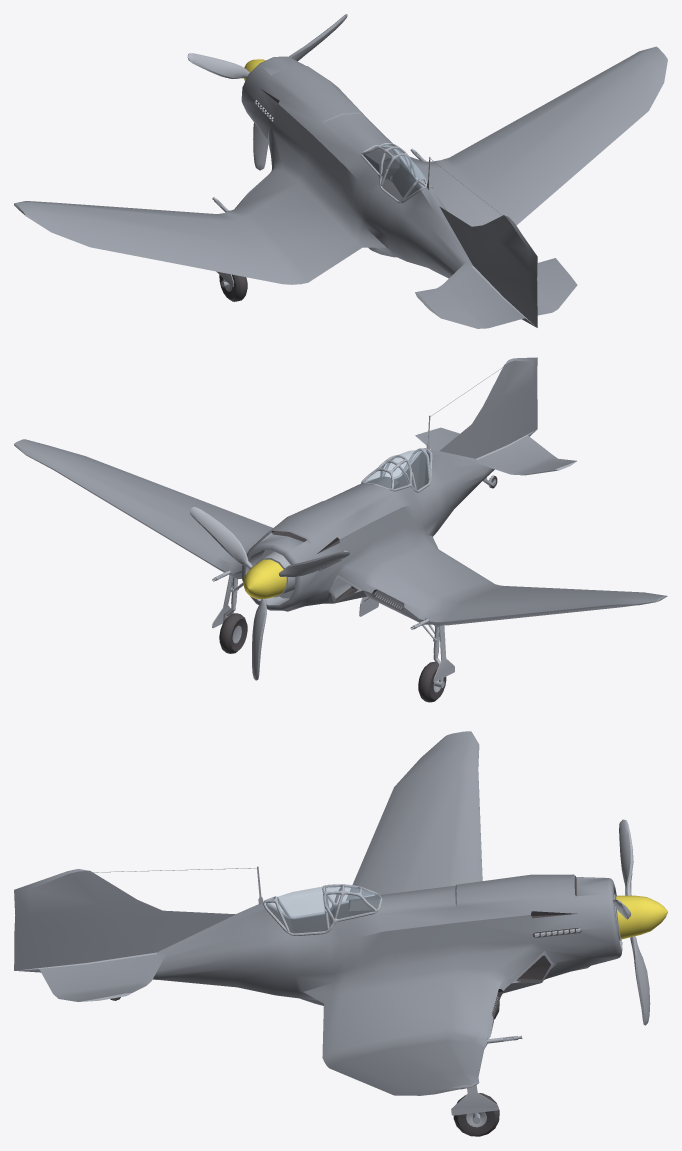
3 renders of one model, top to bottom at view 1: azimuth 30°, elevation 25°; view 2: azimuth 150°, elevation 25°; view 3: azimuth 270°, elevation 25°, orthographic. The views are drawn at different scales.
Visible parts, largest first — view 1: Avenger.002_Cube.063, Avenger.001_Cube.061, Avenger_cocpit_Cube.066; view 2: Avenger.002_Cube.063, Avenger.001_Cube.061, Avenger_cocpit_Cube.066; view 3: Avenger.002_Cube.063, Avenger.001_Cube.061, Avenger_cocpit_Cube.066.
Part boxes in pixels (box(x1,y1,x2,y2)): Avenger.002_Cube.063: box(14, 14, 667, 328); Avenger.001_Cube.061: box(363, 144, 427, 200); Avenger_cocpit_Cube.066: box(361, 143, 432, 203); Avenger.002_Cube.063: box(14, 357, 667, 702); Avenger.001_Cube.061: box(364, 450, 430, 489); Avenger_cocpit_Cube.066: box(361, 448, 432, 492); Avenger.002_Cube.063: box(14, 731, 667, 1136); Avenger.001_Cube.061: box(266, 886, 379, 933); Avenger_cocpit_Cube.066: box(263, 884, 382, 935).
Size of the model in its own units: 11.41 by 3.33 by 8.88.
3 materials, 3 textured.
